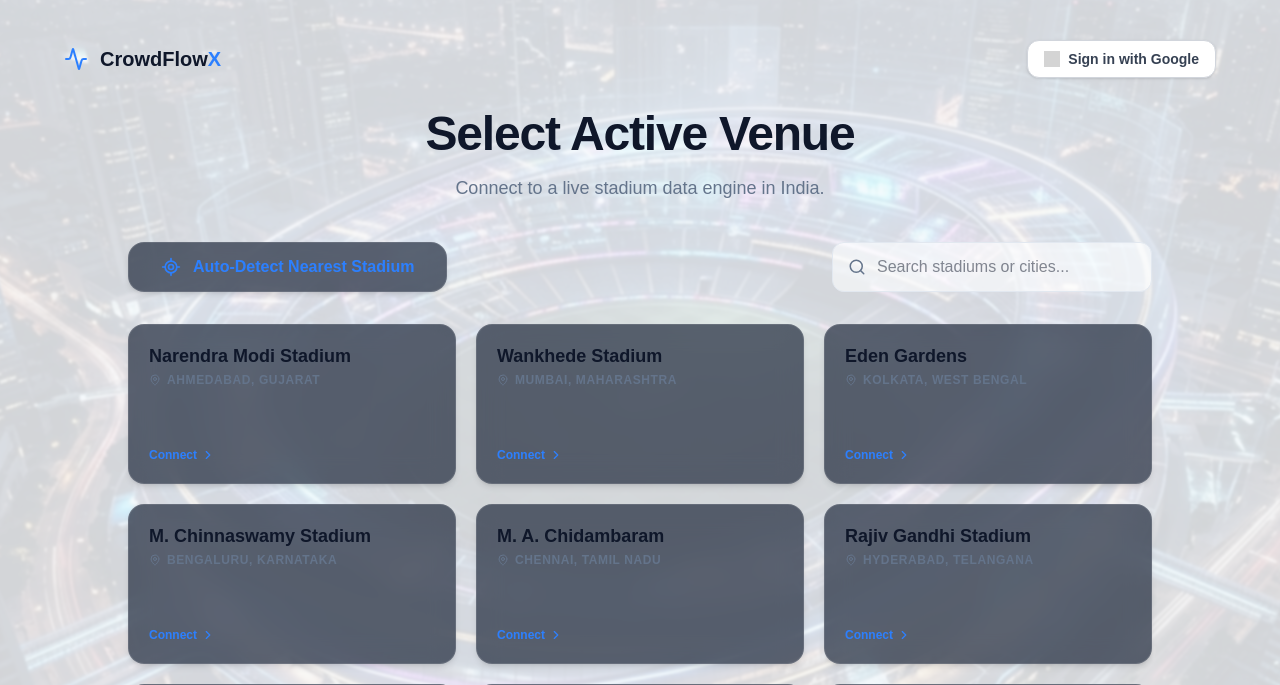
Scenario: StadiumSelector › filters stadiums by name (case-insensitive)
Type "Wankhede" into the search field named "Search stadiums by name or city".
click(992, 267); type("Wankhede")  # box [832,242,1152,292]
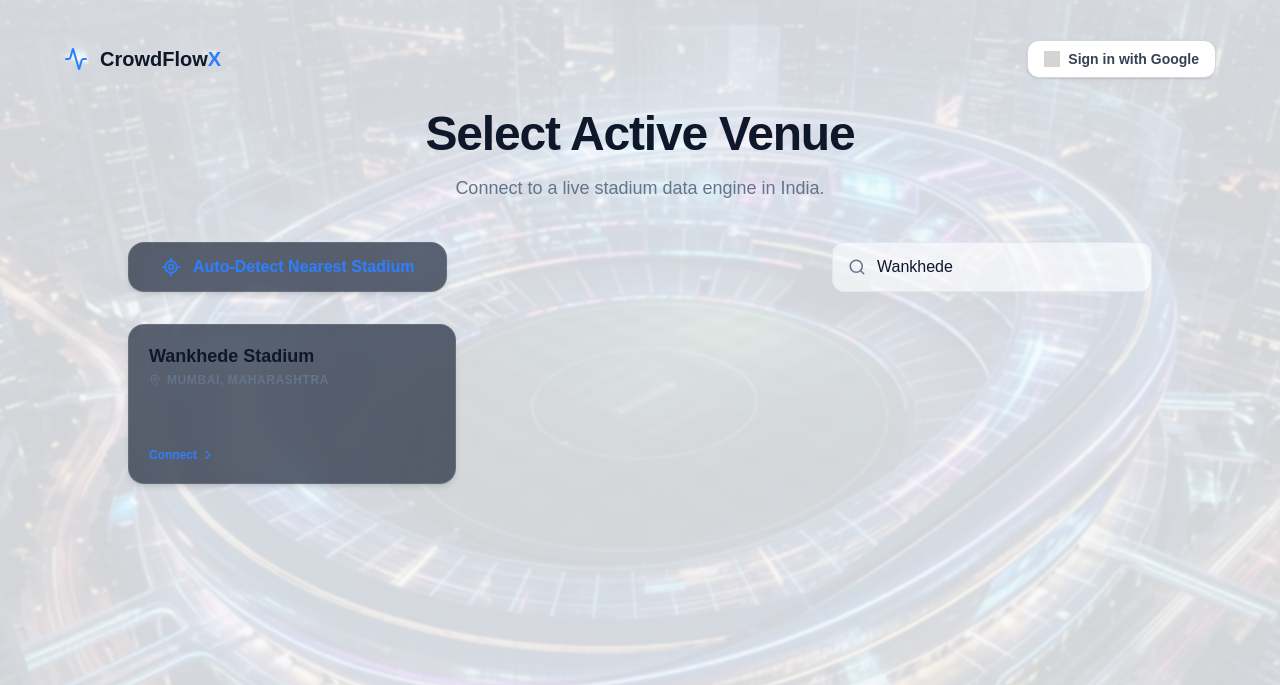
Expected: the number of buttons "Wankhede Stadium Mumbai, Maharashtra Connect" is 1, [128,324,456,484]
